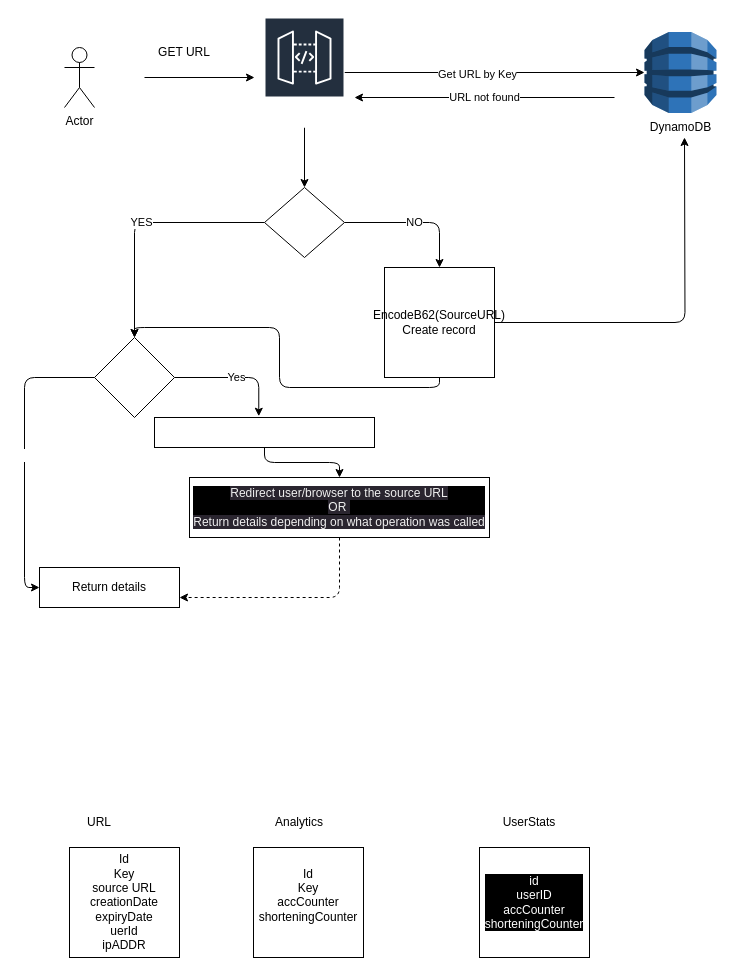
The diagram is 734 pixels wide and 975 high, and some of its shapes have lost their labels. The centre of each missing label's shape, as x and y in pixels:
Increment counters +1: (264,432)
Is user authenticated ?: (134,377)
REST API: (304,72)
URL found?: (304,222)
